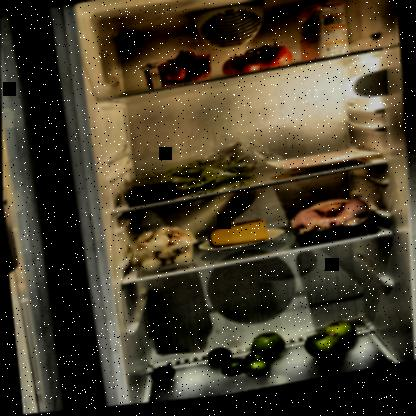apple: (300, 322, 359, 369), (248, 333, 287, 367)
blueberries: (123, 179, 180, 210)
cheese: (206, 222, 270, 257)
chicken: (287, 199, 378, 253)
green_beans: (130, 150, 271, 203)
lime: (206, 343, 269, 390), (146, 365, 181, 388)
mushrooms: (125, 226, 193, 278)
strawberries: (143, 51, 213, 96)
tomato: (219, 42, 295, 84)
